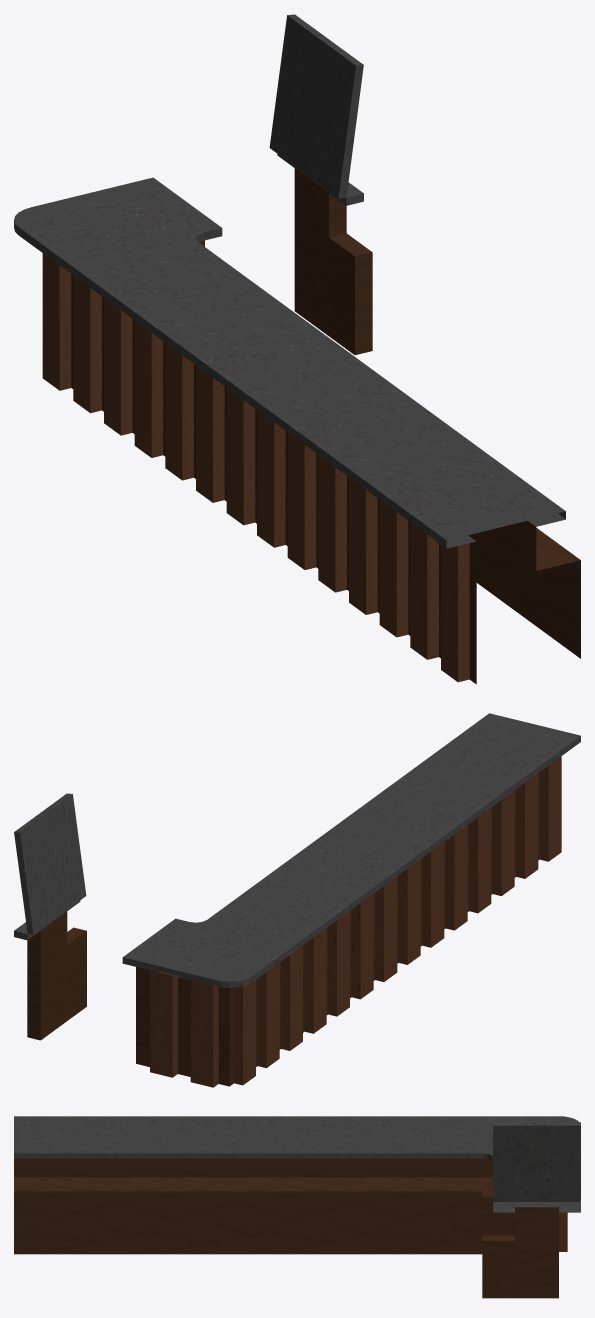
Rendered from MostradorLong.fbx.
3 views of the same model, one above another, from view 1: azimuth 30°, elevation 25°; view 2: azimuth 150°, elevation 25°; view 3: azimuth 270°, elevation 25° (orthographic). The views are drawn at different scales.
Parts seen in each view (by area): view 1: Cube.001; view 2: Cube.001; view 3: Cube.001.
Part boxes in pixels (x1,y1,x2,y2): Cube.001: (14,14,580,684); Cube.001: (14,713,580,1087); Cube.001: (14,1116,580,1298).
Size of the model in its own units: 369 by 337 by 969.
